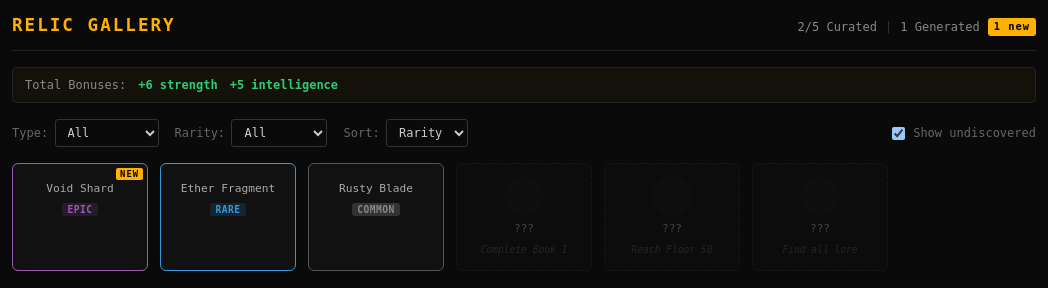
Test: RelicGallery Component › toggles undiscovered visibility
Expected: the text "???" is shown 3 times, [514, 222, 534, 237]; [662, 222, 682, 237]; [810, 222, 830, 237]
Click the checkbox at [898, 133], box [892, 127, 905, 140]
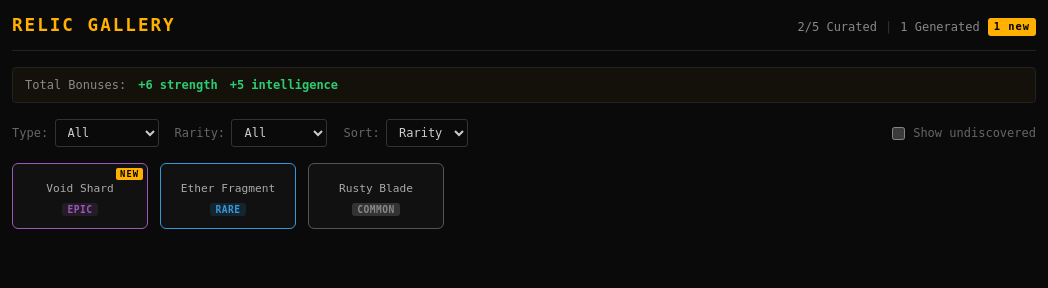
Expected: the text "???" is gone
